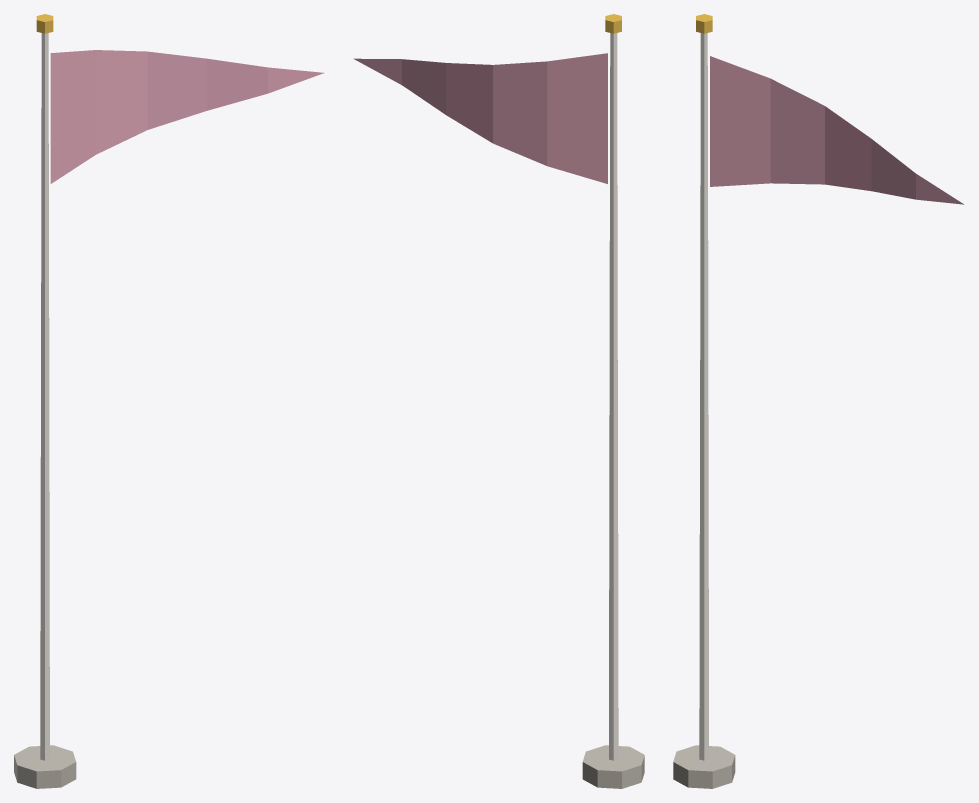
Rendered from flag_pole_pink.glb.
The picture shows the model from 3 angles, left to right: view 1: azimuth 30°, elevation 25°; view 2: azimuth 150°, elevation 25°; view 3: azimuth 330°, elevation 25°; orthographic projection.
Parts seen in each view (by area): view 1: flag_pole_pink; view 2: flag_pole_pink; view 3: flag_pole_pink.
Part boxes in pixels (x1=…): flag_pole_pink: x1=14, y1=14, x2=323, y2=788; flag_pole_pink: x1=353, y1=14, x2=644, y2=788; flag_pole_pink: x1=673, y1=14, x2=963, y2=788.
Bounding box in the file's own units: 2.14 × 5.2 × 0.4.
